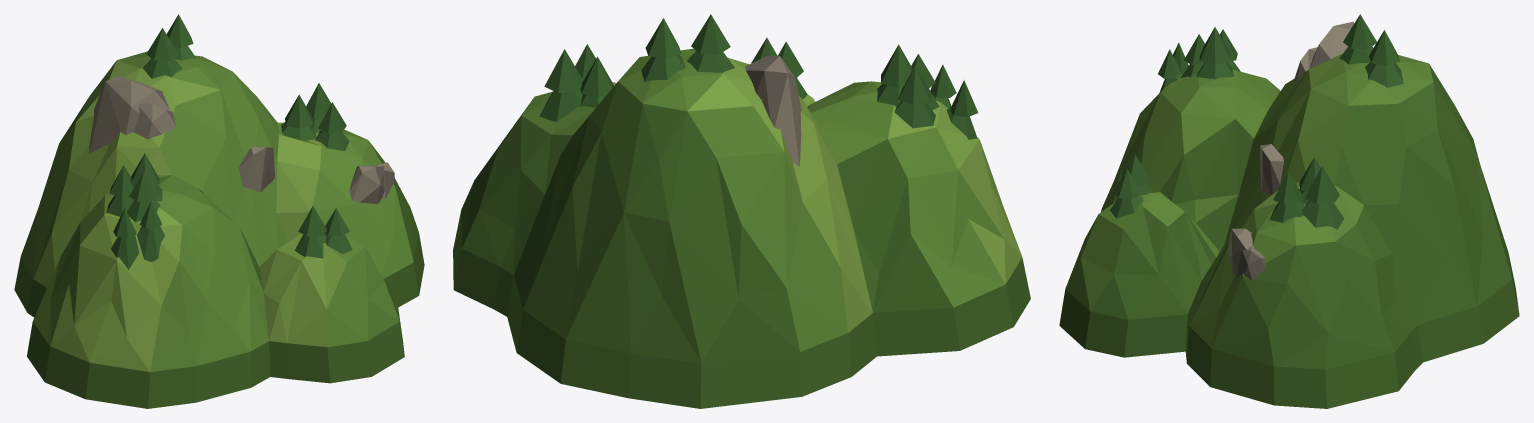
The model's file is forest_cluster.glb.
3 views of the same model, side by side, from view 1: azimuth 30°, elevation 25°; view 2: azimuth 150°, elevation 25°; view 3: azimuth 270°, elevation 25° (orthographic). The views are drawn at different scales.
Parts seen in each view (by area): view 1: forest_cluster; view 2: forest_cluster; view 3: forest_cluster.
Part boxes in pixels (bbox=[...]): forest_cluster: bbox=[14, 14, 424, 408]; forest_cluster: bbox=[453, 14, 1030, 408]; forest_cluster: bbox=[1059, 14, 1519, 408].
Size of the model in its own units: 1.89 by 1.15 by 1.73.
